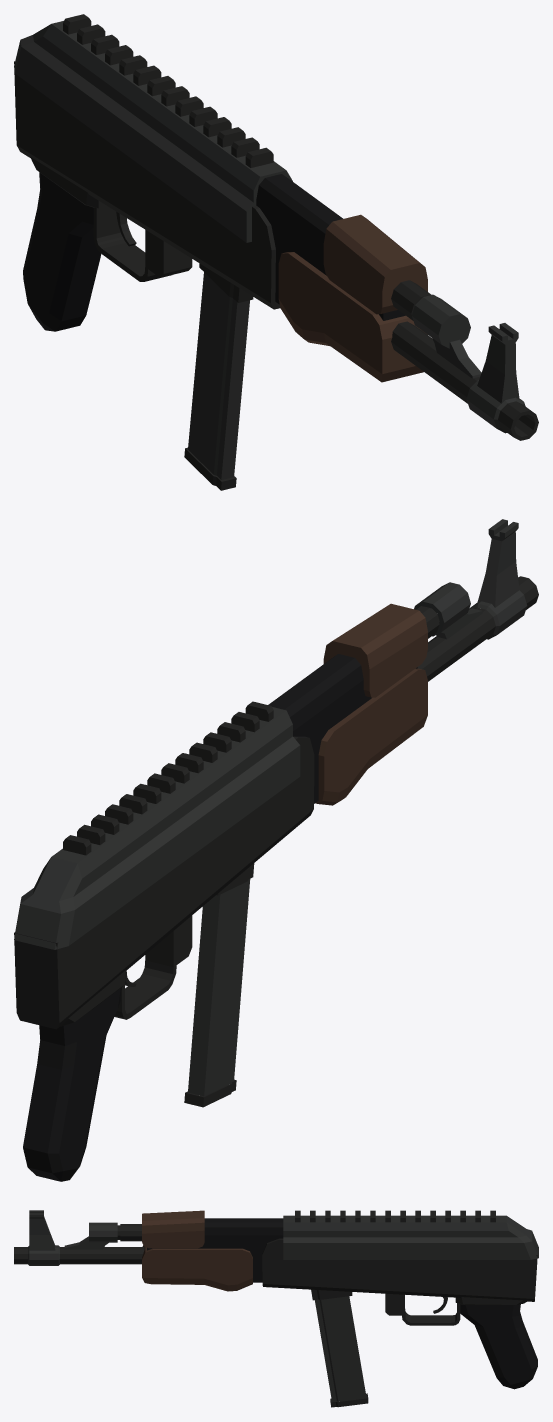
File: assault_rifle.glb
3 renders of one model, top to bottom at view 1: azimuth 30°, elevation 25°; view 2: azimuth 150°, elevation 25°; view 3: azimuth 270°, elevation 25°, orthographic. The views are drawn at different scales.
Parts seen in each view (by area): view 1: AssaultRifle_1; view 2: AssaultRifle_1; view 3: AssaultRifle_1.
Boxes of the visible parts, x1=… form: AssaultRifle_1: x1=14, y1=14, x2=538, y2=490; AssaultRifle_1: x1=14, y1=519, x2=538, y2=1181; AssaultRifle_1: x1=14, y1=1210, x2=538, y2=1407.
Bounding box in the file's own units: 0.0492 × 0.3165 × 0.78.
